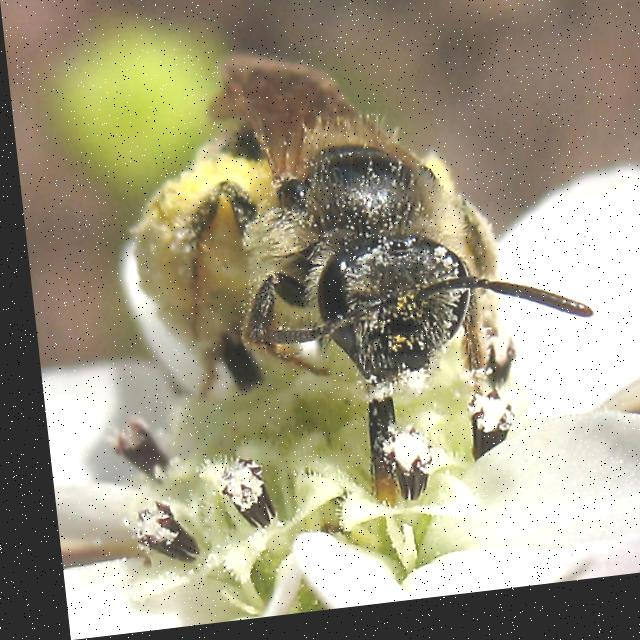Lasioglossum: (106, 20, 609, 527)
